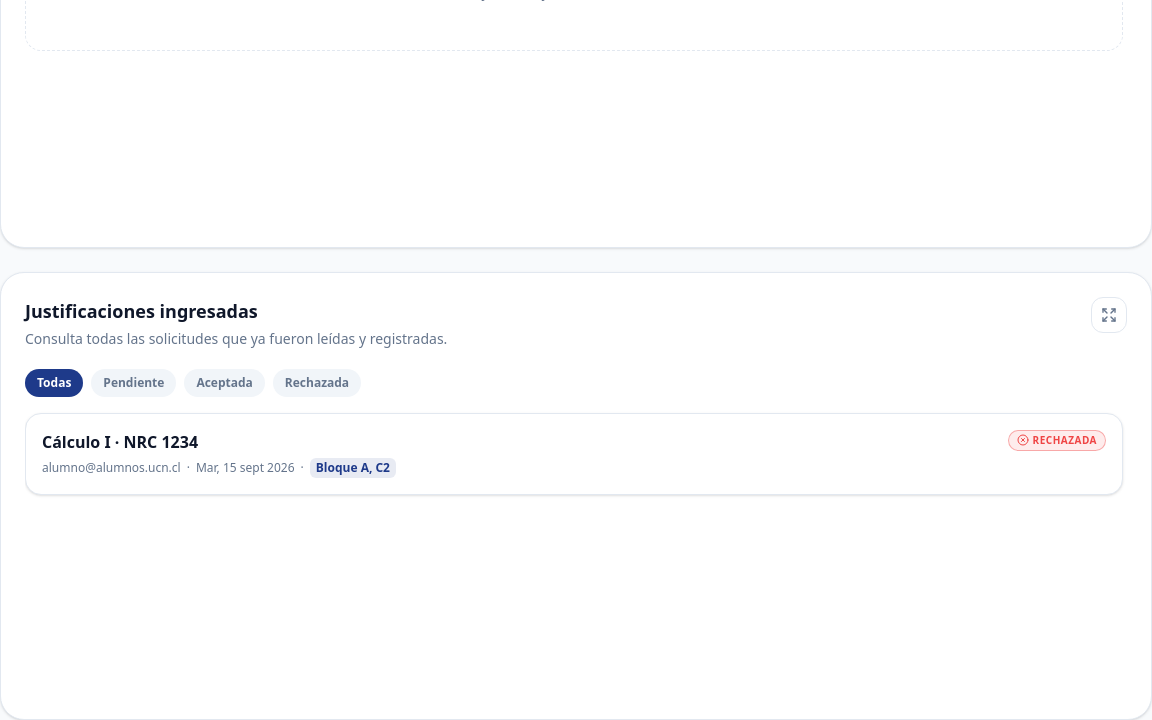
it: JustificationsPage (coordinación de apoyo docente) › las resueltas se muestran sin controles de decisión
This screenshot has width=1152, height=720.
(page scrolled)
Step 1. Click the button "Cálculo I · NRC 1234" → {"x": 76, "y": 442}, box x1=25 y1=413 x2=1123 y2=495
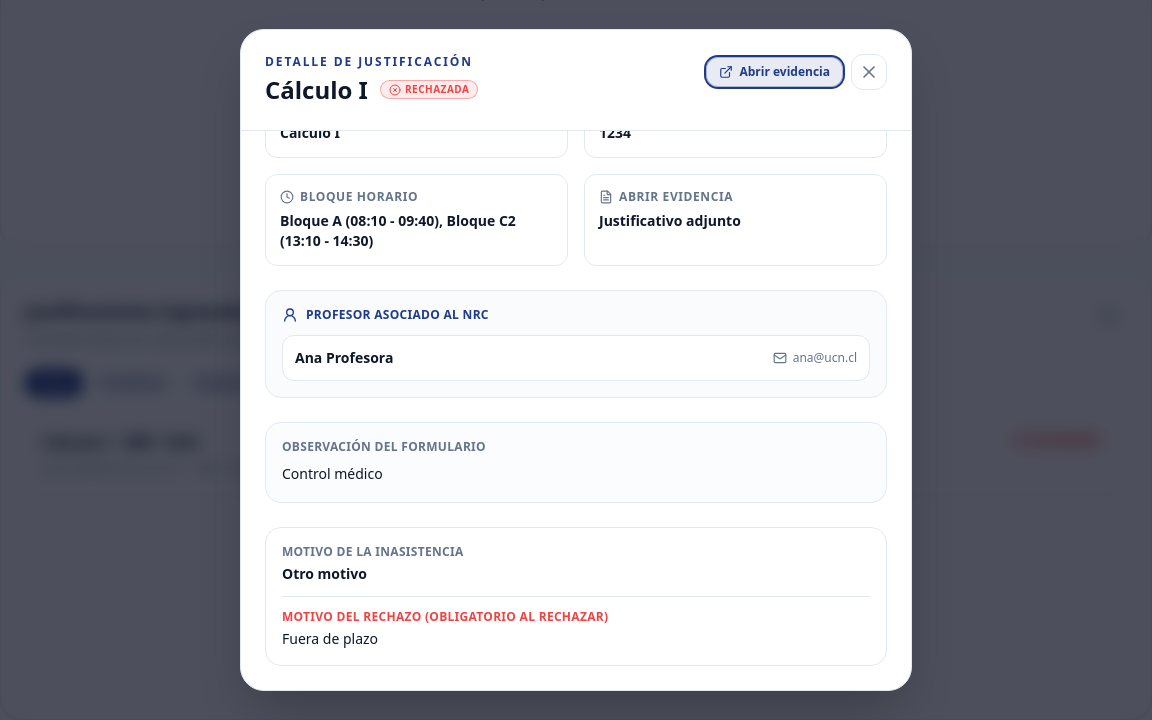
Check: the text "Fuera de plazo" is shown, box x1=282 y1=628 x2=378 y2=648
